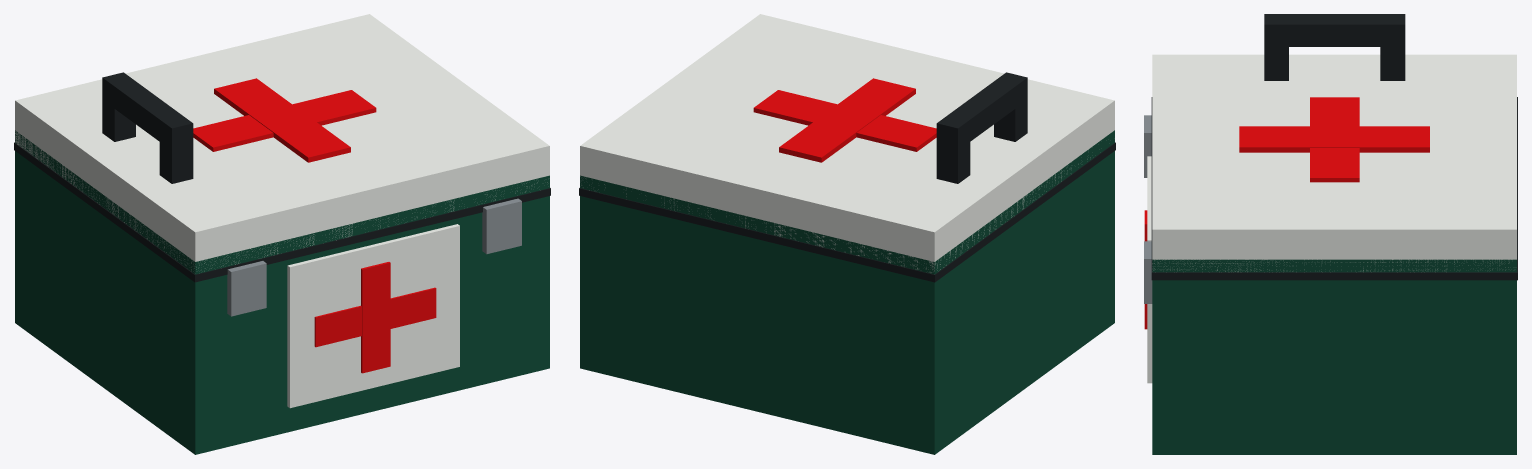
File: medical_kit.dae
3 views of the same model, side by side, from view 1: azimuth 30°, elevation 25°; view 2: azimuth 150°, elevation 25°; view 3: azimuth 270°, elevation 25° (orthographic).
Parts seen in each view (by area): view 1: body_node, lid_node, badge_node, cross_top_y_node, seam_node, cross_top_x_node, handle_bar_node, cross_front_z_node, cross_front_x_node, latch_left_node, latch_right_node, handle_left_node (+1 smaller); view 2: body_node, lid_node, seam_node, cross_top_y_node, cross_top_x_node, handle_bar_node, handle_right_node, handle_left_node; view 3: body_node, lid_node, cross_top_y_node, handle_bar_node, seam_node, cross_top_x_node, handle_right_node, handle_left_node, badge_node, latch_right_node, latch_left_node.
Boxes of the visible parts, x1,y1,x2,y2 form: body_node: (15, 130, 549, 454); lid_node: (15, 14, 549, 271); badge_node: (287, 224, 459, 408); cross_top_y_node: (214, 78, 350, 162); seam_node: (14, 142, 550, 282); cross_top_x_node: (193, 90, 376, 151); handle_bar_node: (102, 72, 193, 147); cross_front_z_node: (361, 262, 390, 373); cross_front_x_node: (314, 287, 436, 347); latch_left_node: (227, 261, 266, 316); latch_right_node: (482, 198, 521, 254); handle_left_node: (159, 131, 193, 183); body_node: (580, 130, 1114, 454); lid_node: (580, 14, 1114, 272); seam_node: (579, 142, 1115, 282); cross_top_y_node: (779, 78, 915, 162); cross_top_x_node: (753, 90, 936, 151); handle_bar_node: (936, 72, 1027, 147); handle_right_node: (936, 131, 970, 183); handle_left_node: (994, 89, 1027, 141); body_node: (1152, 259, 1516, 454); lid_node: (1152, 54, 1516, 271); cross_top_y_node: (1239, 126, 1429, 152); handle_bar_node: (1264, 14, 1405, 46); seam_node: (1151, 97, 1517, 280); cross_top_x_node: (1310, 97, 1359, 182); handle_right_node: (1380, 35, 1405, 80); handle_left_node: (1264, 35, 1288, 80); badge_node: (1147, 156, 1152, 383); latch_right_node: (1144, 241, 1152, 303); latch_left_node: (1144, 115, 1151, 177).
Size of the model in its own units: 0.0502 by 0.0451 by 0.0375.
